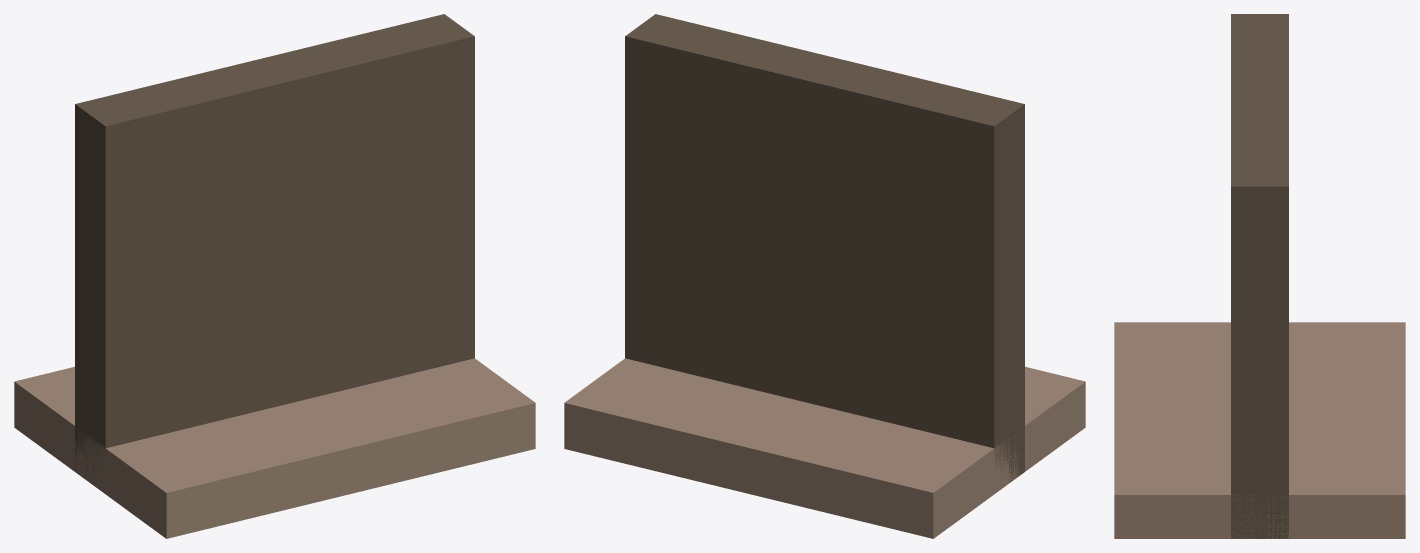
The model's file is shelf-slot-empty.gltf.
3 views of the same model, side by side, from view 1: azimuth 30°, elevation 25°; view 2: azimuth 150°, elevation 25°; view 3: azimuth 270°, elevation 25° (orthographic). The views are drawn at different scales.
Parts seen in each view (by area): view 1: SlotBack, SlotFloor; view 2: SlotBack, SlotFloor; view 3: SlotFloor, SlotBack.
Part boxes in pixels (bbox=[...]): SlotBack: bbox=[75, 14, 474, 483]; SlotFloor: bbox=[14, 358, 535, 538]; SlotBack: bbox=[625, 14, 1024, 488]; SlotFloor: bbox=[564, 358, 1085, 538]; SlotFloor: bbox=[1114, 322, 1405, 538]; SlotBack: bbox=[1231, 14, 1288, 538].
Bounding box in the file's own units: 0.42 × 0.4 × 0.3.
